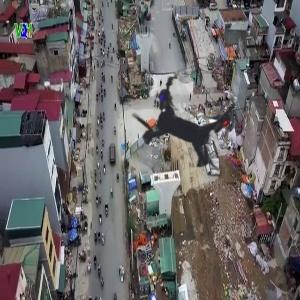drone: (89, 32, 277, 220)
